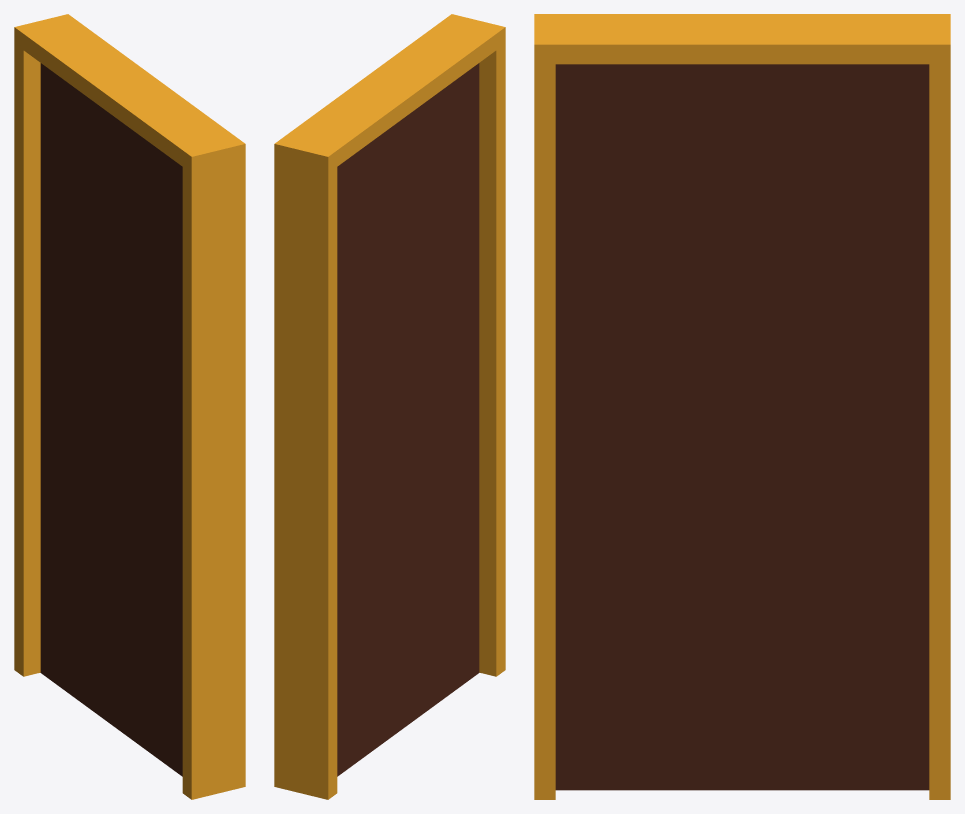
File: door.fbx
The picture shows the model from 3 angles, left to right: view 1: azimuth 30°, elevation 25°; view 2: azimuth 150°, elevation 25°; view 3: azimuth 270°, elevation 25°; orthographic projection. The views are drawn at different scales.
Parts seen in each view (by area): view 1: Cube, Plane; view 2: Cube, Plane; view 3: Cube, Plane.
Part boxes in pixels (bbox=[...]): Cube: bbox=[40, 63, 182, 776]; Plane: bbox=[14, 14, 245, 799]; Cube: bbox=[337, 63, 479, 776]; Plane: bbox=[274, 14, 505, 799]; Cube: bbox=[555, 64, 929, 790]; Plane: bbox=[534, 14, 950, 799].
Bounding box in the file's own units: 17.5 × 200 × 100.
